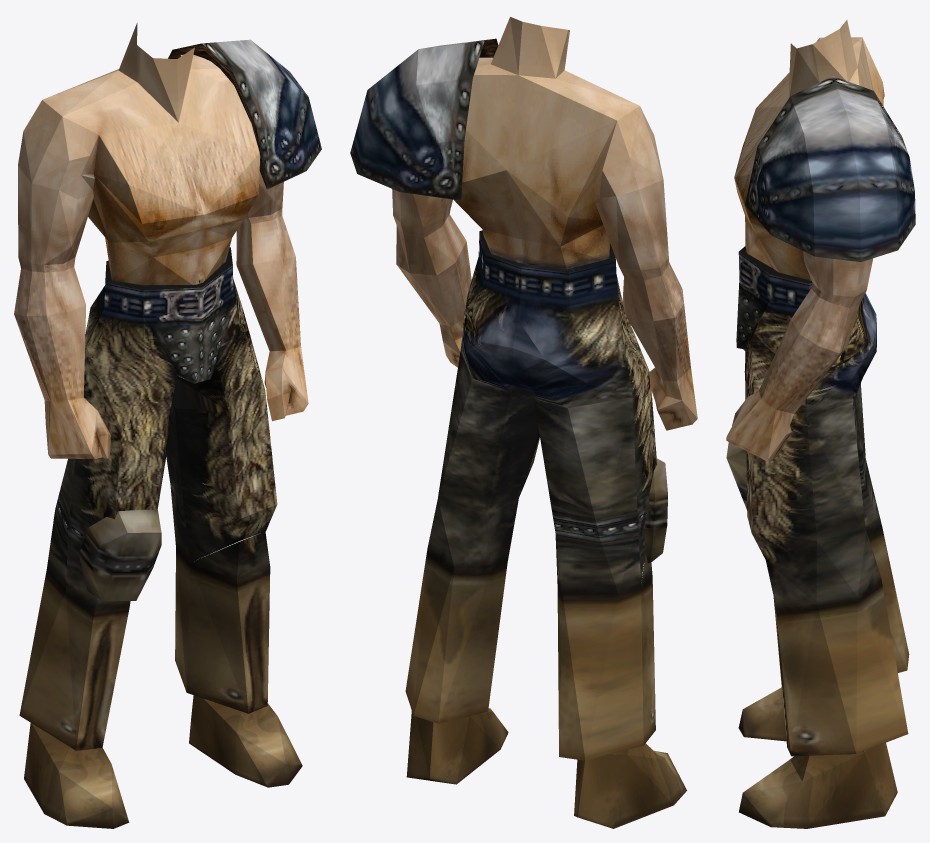
File: SLD_ARMOR_L-DkCbeLH7.glb
The picture shows the model from 3 angles, left to right: view 1: azimuth 30°, elevation 25°; view 2: azimuth 150°, elevation 25°; view 3: azimuth 270°, elevation 25°; orthographic projection.
Visible parts, largest first — view 1: zm_Hose, zm_Body, zm_GRD_Schulterschutz, zm_GRD_Knieschutz; view 2: zm_Hose, zm_Body, zm_GRD_Schulterschutz, zm_GRD_Knieschutz; view 3: zm_Hose, zm_GRD_Schulterschutz, zm_Body, zm_GRD_Knieschutz.
Boxes of the visible parts, box(x1,y1,x2,y2) form: zm_Hose: box(19, 247, 302, 828); zm_Body: box(14, 23, 308, 459); zm_GRD_Schulterschutz: box(168, 39, 321, 189); zm_GRD_Knieschutz: box(79, 509, 161, 601); zm_Hose: box(405, 230, 686, 828); zm_Body: box(392, 17, 697, 430); zm_GRD_Schulterschutz: box(350, 38, 498, 200); zm_GRD_Knieschutz: box(643, 458, 667, 563); zm_Hose: box(736, 246, 909, 828); zm_GRD_Schulterschutz: box(745, 76, 915, 261); zm_Body: box(726, 20, 884, 462); zm_GRD_Knieschutz: box(726, 442, 747, 510).
Size of the model in its own units: 0.7042 by 1.66 by 0.3786.
3 materials, 3 textured.
